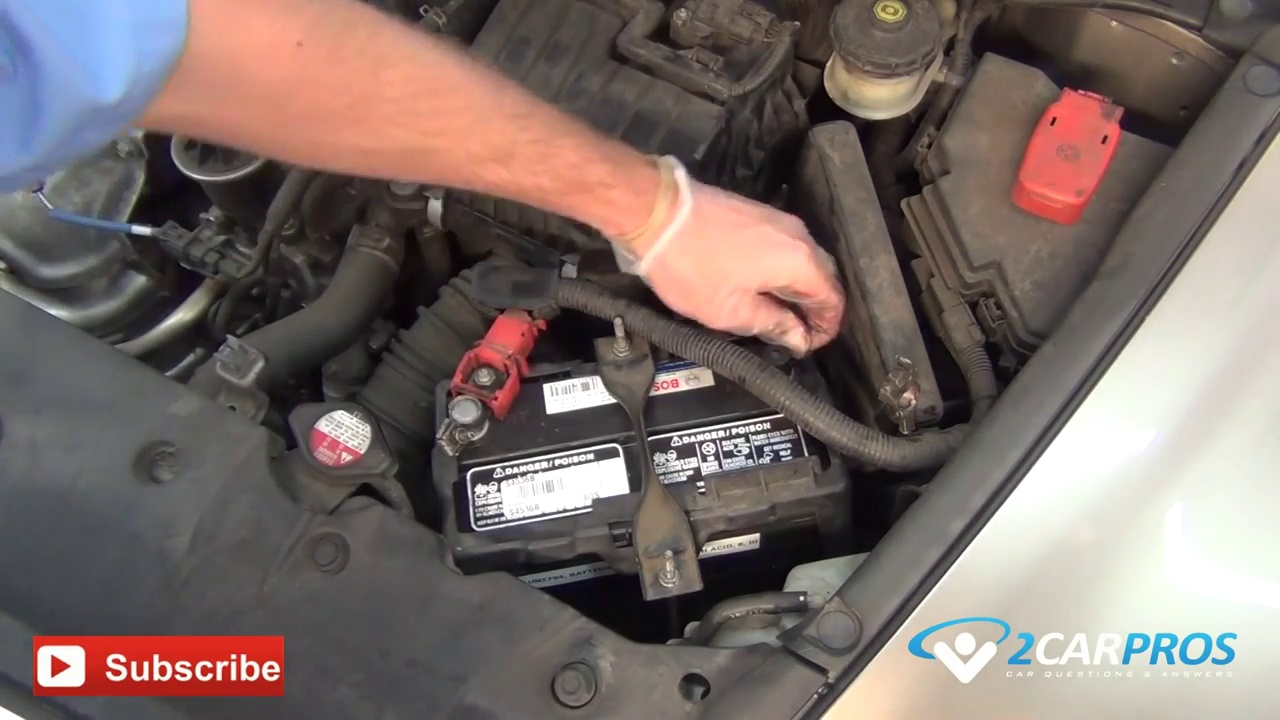battery: (446, 321, 812, 543)
neg_touched: (727, 228, 846, 418)
pos_connected: (427, 288, 548, 468)
